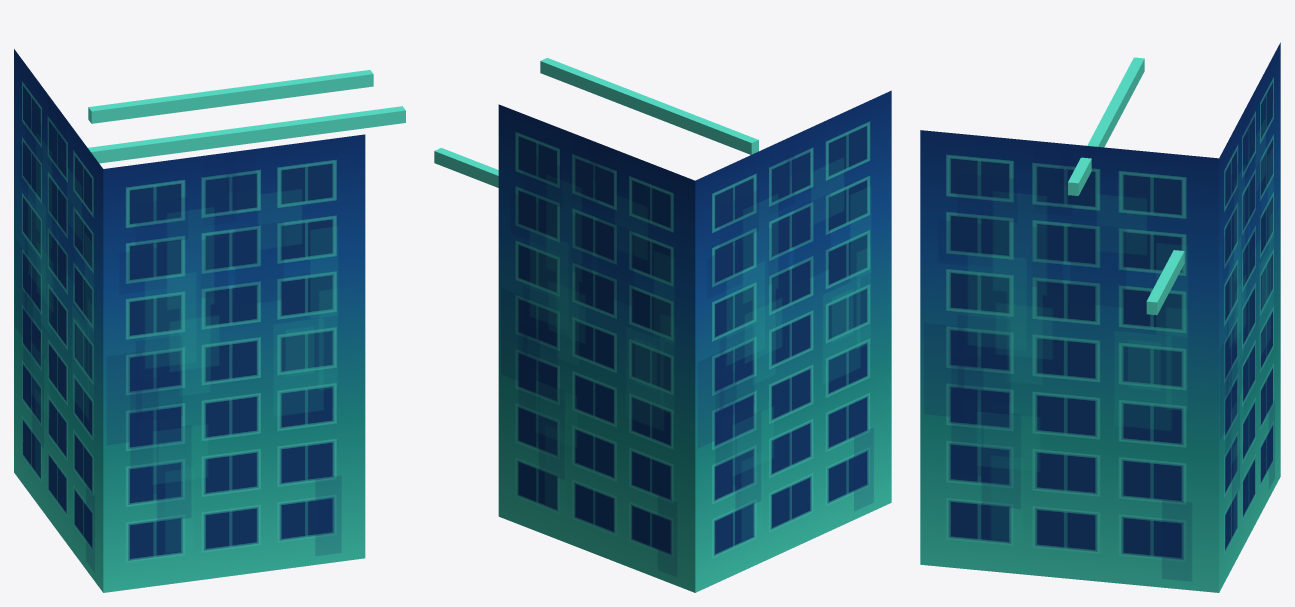
The model's file is base_solar_cabin_core.glb.
3 views of the same model, side by side, from view 1: azimuth 30°, elevation 25°; view 2: azimuth 150°, elevation 25°; view 3: azimuth 270°, elevation 25° (orthographic). The views are drawn at different scales.
Visible parts, largest first — view 1: 太阳能木屋-木屋主体-海下基座-01.001; view 2: 太阳能木屋-木屋主体-海下基座-01.001; view 3: 太阳能木屋-木屋主体-海下基座-01.001.
Part boxes in pixels (x1=…): 太阳能木屋-木屋主体-海下基座-01.001: x1=14, y1=49, x2=405, y2=592; 太阳能木屋-木屋主体-海下基座-01.001: x1=434, y1=58, x2=891, y2=592; 太阳能木屋-木屋主体-海下基座-01.001: x1=920, y1=42, x2=1280, y2=592.
Bounding box in the file's own units: 14.89 × 15.67 × 11.77.
2 materials, 1 textured.
